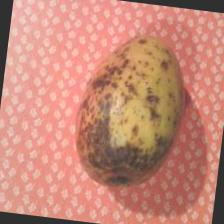Mango Overripe: (70, 28, 188, 191)
